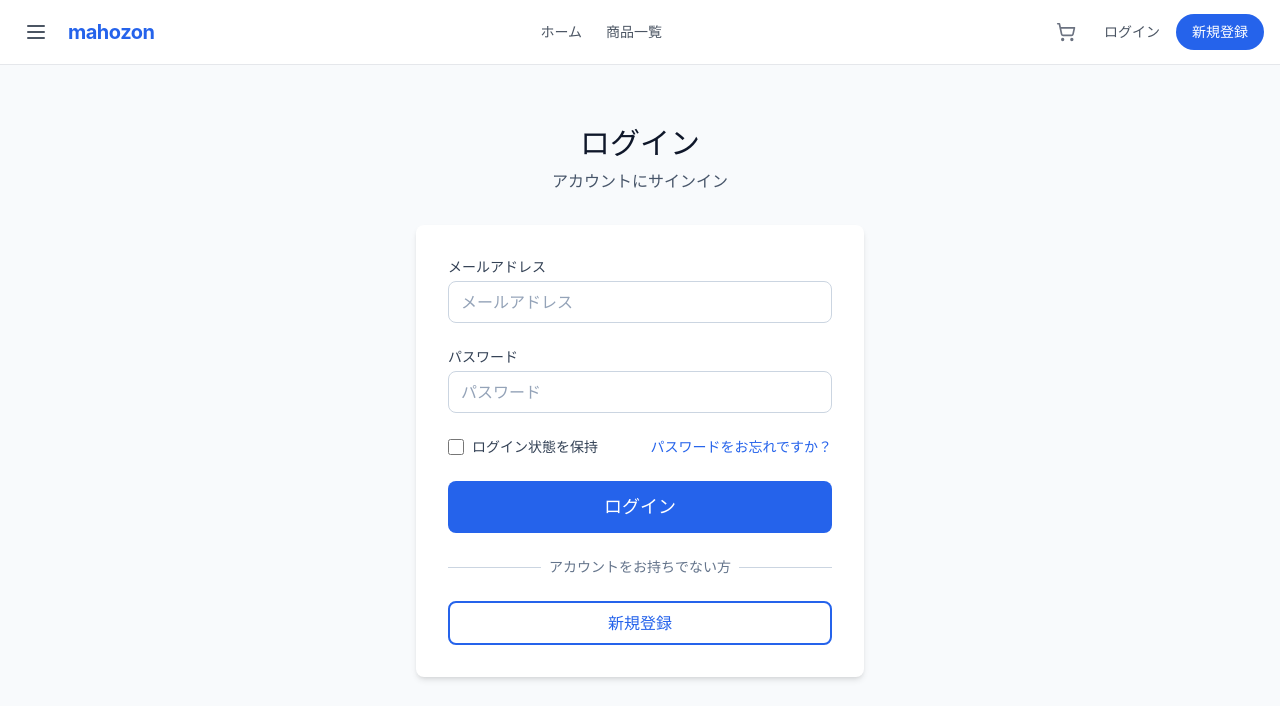
Test: ログインページ › メールアドレスが未入力のとき、エラーメッセージが表示される
This screenshot has width=1280, height=706.
パスワードだけ入力してsubmit
Type "password123" into the password field with placeholder "パスワード".
click(640, 392); type("password123")  # box [448, 371, 832, 413]
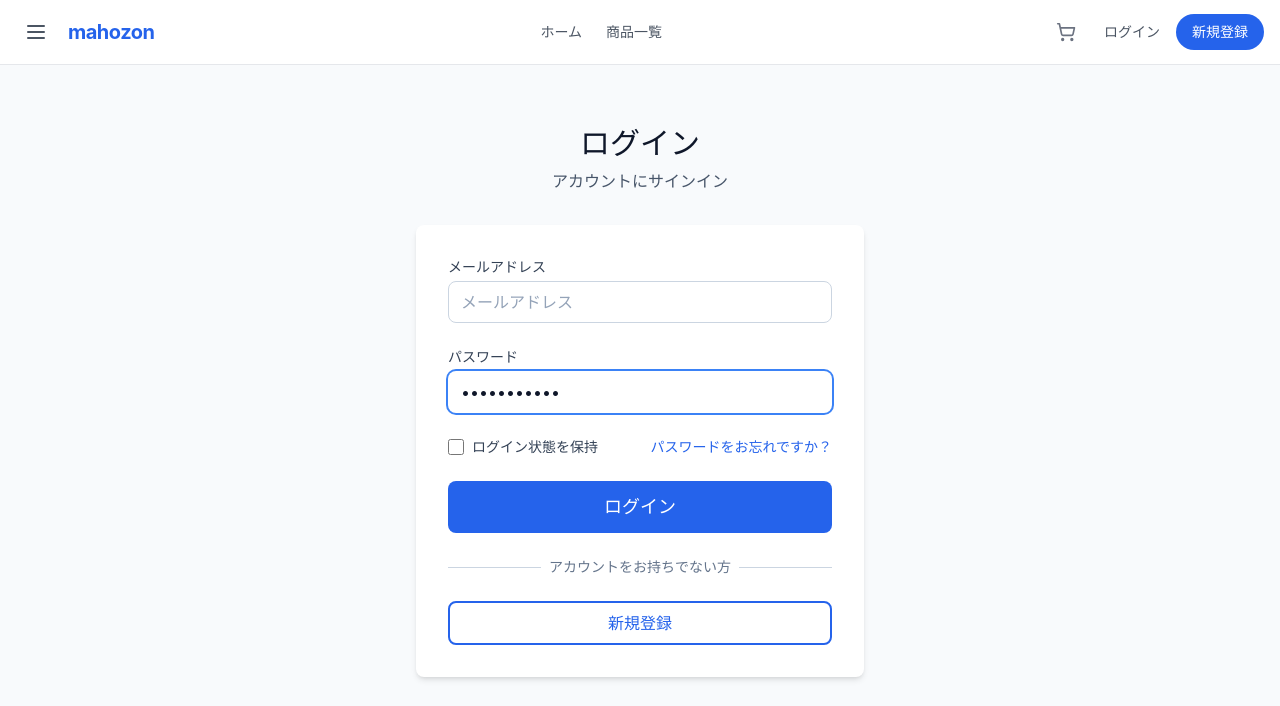
Click the submit button.
click(640, 507)  # box [448, 481, 832, 533]
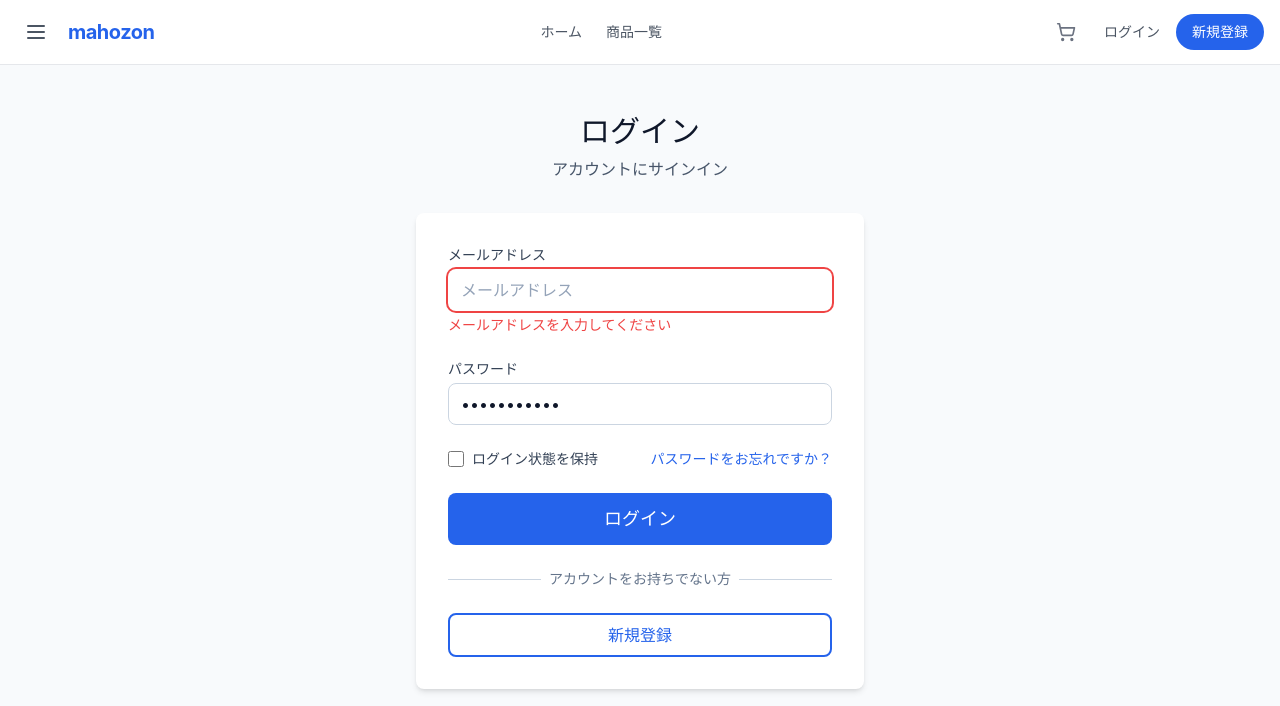
Expected: the text "メールアドレスを入力してください" is shown, [448, 316, 671, 333]
